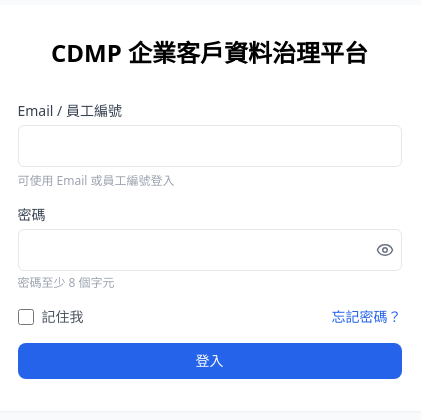
Test: LoginPage › 前端欄位驗證 › 識別碼空白提交顯示錯誤訊息
Click the button "登入" at (210, 361), box [18,343,402,379]
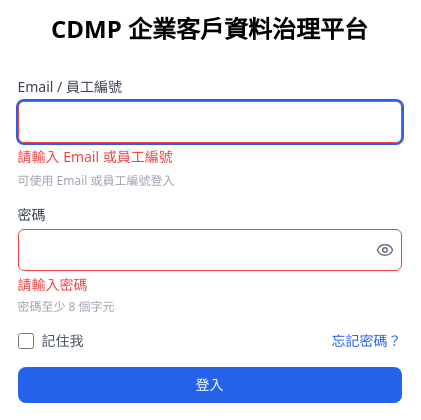
Check: the text "請輸入 Email 或員工編號" is shown, box [18,147,173,166]
